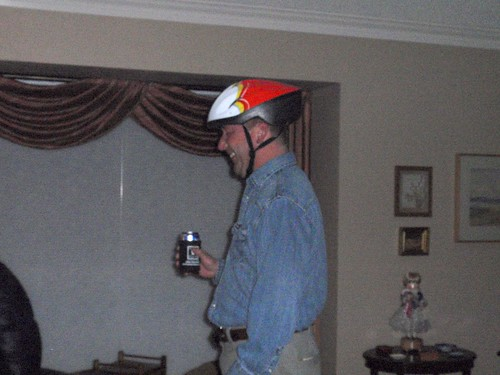helmet: (194, 71, 321, 124)
